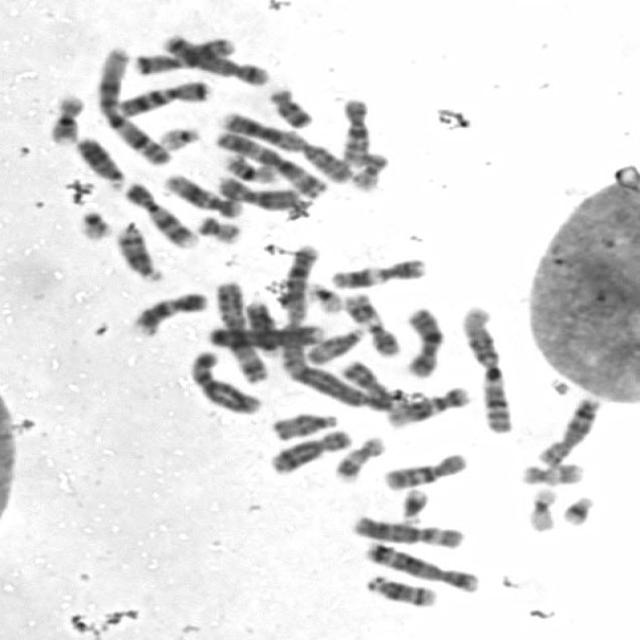A1: (89, 40, 174, 165), (456, 300, 516, 435)
A2: (212, 107, 356, 185), (268, 239, 323, 380)
A3: (210, 125, 329, 199), (209, 275, 272, 384)
B4: (286, 358, 396, 416), (202, 316, 329, 350)
B5: (358, 536, 482, 594), (156, 28, 272, 86)
C10: (378, 447, 470, 491), (332, 91, 374, 168)
C11: (337, 288, 401, 358), (325, 252, 429, 290)
C12: (380, 380, 472, 428), (158, 168, 244, 219)
C6: (183, 344, 263, 414), (347, 510, 466, 549)
C7: (128, 31, 238, 76), (110, 75, 212, 119)
C8: (531, 392, 604, 468), (263, 423, 354, 476)
C9: (118, 177, 199, 250), (125, 286, 210, 336)
D13: (69, 130, 126, 189), (239, 298, 283, 357)
D14: (109, 219, 165, 283), (360, 569, 439, 608)
D15: (300, 322, 368, 366), (266, 407, 341, 441)
E16: (41, 89, 86, 145), (216, 148, 282, 184)
E17: (329, 430, 389, 482), (515, 458, 587, 486)
E18: (333, 356, 392, 410), (263, 83, 317, 130)
F19: (520, 481, 560, 533), (303, 276, 345, 315)
F20: (345, 146, 392, 193), (190, 210, 244, 246)
G21: (394, 481, 432, 525), (556, 490, 596, 527)
G22: (72, 204, 114, 241), (153, 122, 205, 151)
X: (397, 301, 446, 380), (211, 170, 304, 210)
